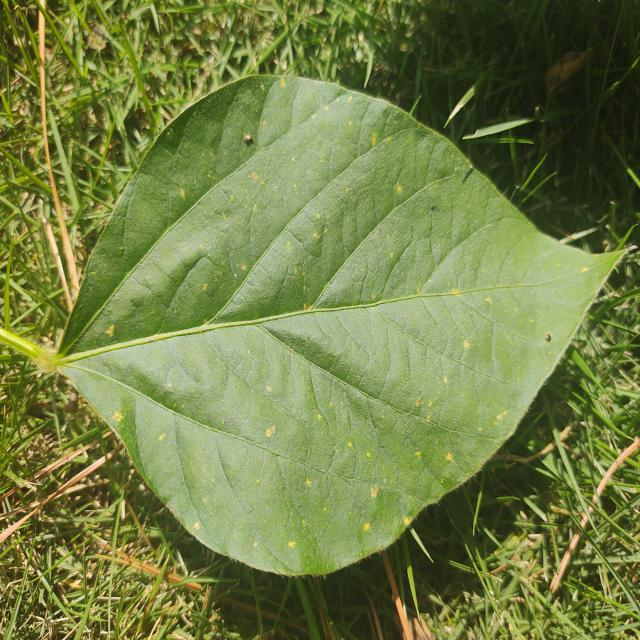Soybean: (50, 71, 624, 607)
downey_mildew: (67, 305, 392, 561), (77, 81, 369, 354), (154, 447, 375, 577), (436, 251, 565, 451), (74, 208, 231, 347), (239, 104, 359, 281), (196, 323, 340, 461), (313, 169, 435, 328), (541, 247, 640, 417), (288, 296, 415, 420), (381, 378, 507, 502), (296, 271, 403, 398), (429, 152, 533, 279), (213, 414, 378, 488), (169, 78, 267, 184), (46, 316, 231, 370), (57, 362, 156, 460), (124, 404, 192, 530), (425, 282, 507, 384), (175, 408, 235, 521), (113, 165, 184, 259), (267, 445, 331, 545), (455, 296, 560, 353), (518, 253, 602, 324), (459, 223, 533, 297), (322, 289, 439, 313), (164, 251, 209, 311)
